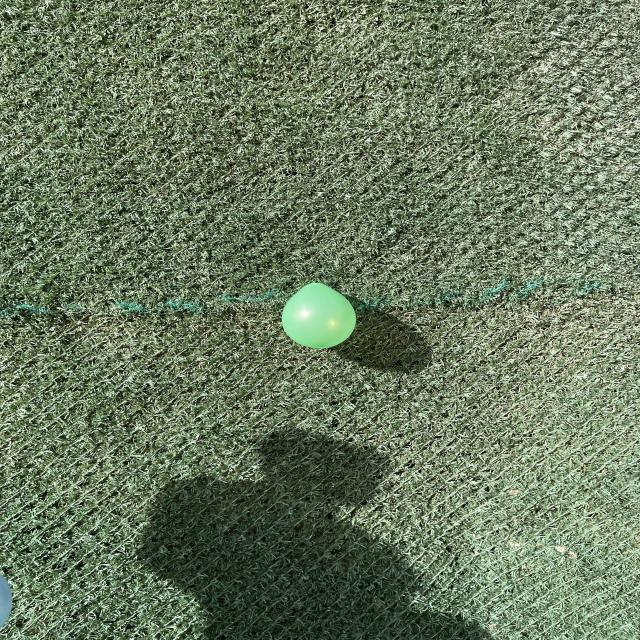balloon: (282, 283, 356, 348)
